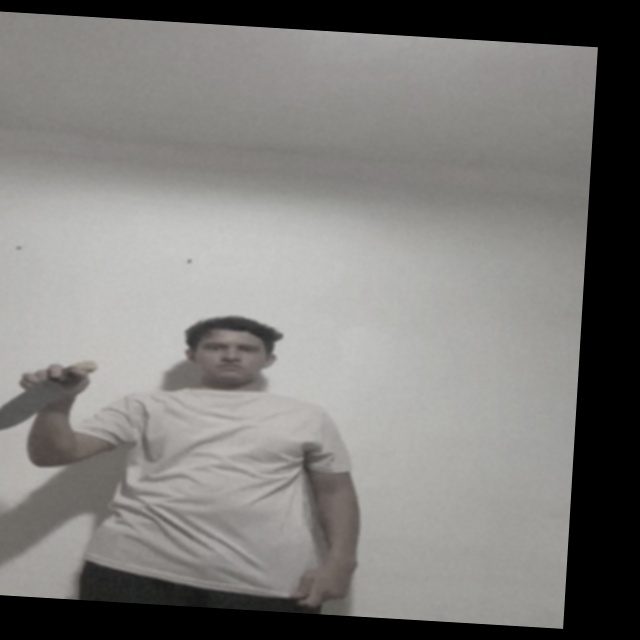Sharp-Object: (0, 375, 62, 436)
